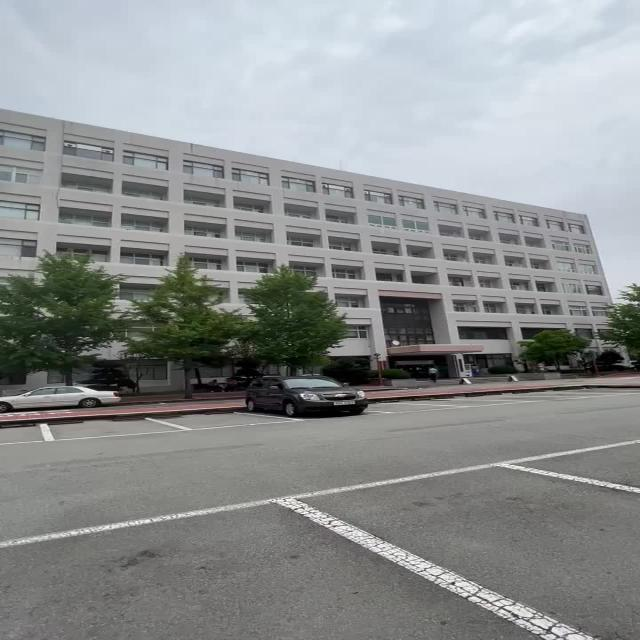building: (41, 164, 604, 287)
